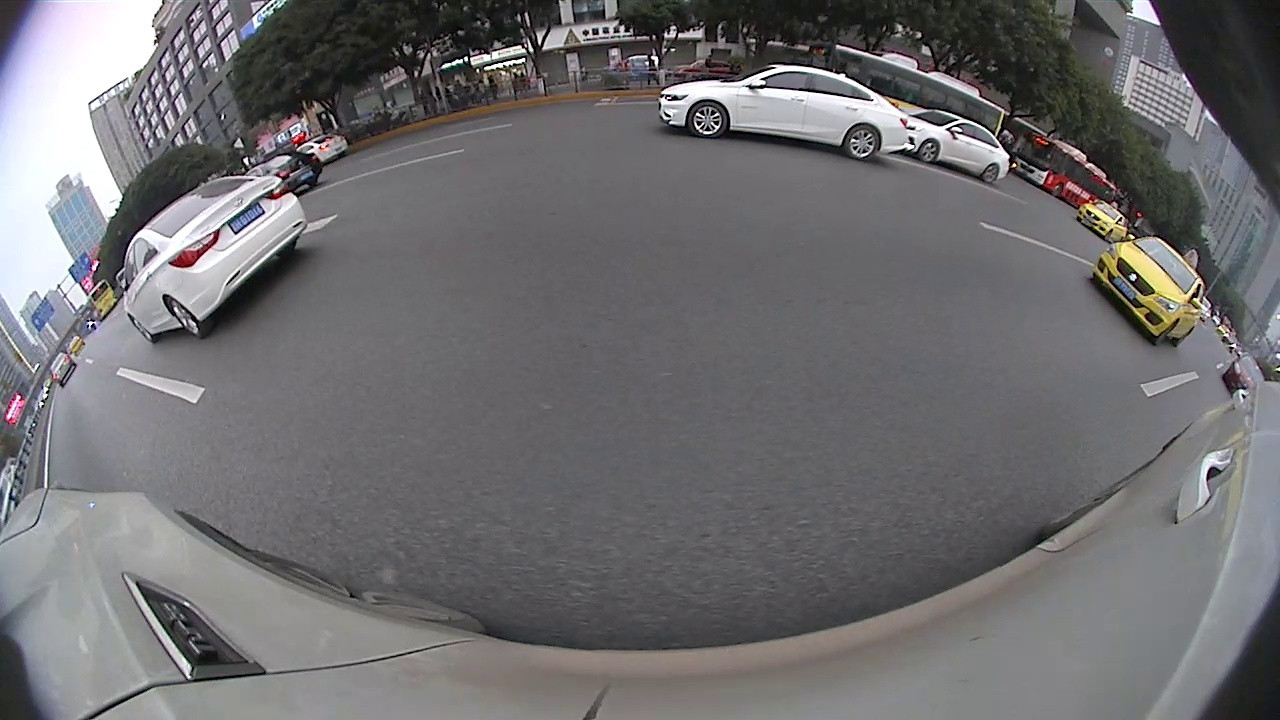bus: (800, 42, 1008, 143), (1013, 132, 1107, 204)
car: (114, 178, 308, 346), (658, 63, 910, 162), (1090, 235, 1207, 349), (898, 110, 1012, 186), (246, 147, 320, 197), (1074, 200, 1125, 244)
front: (688, 101, 728, 138), (129, 315, 155, 341), (921, 141, 940, 164)
rear: (164, 295, 209, 336), (845, 124, 880, 159), (982, 163, 998, 183)
